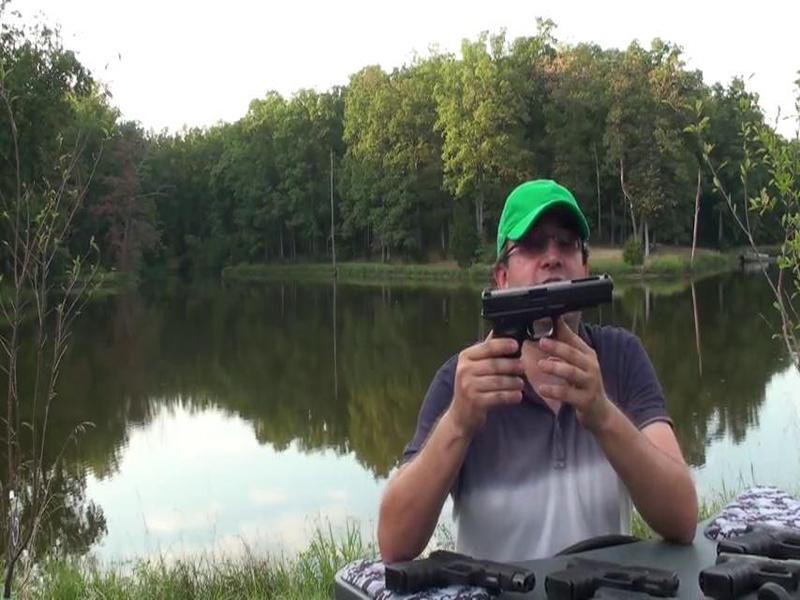Pistola: (461, 264, 617, 368), (382, 541, 538, 597), (549, 542, 684, 600)
